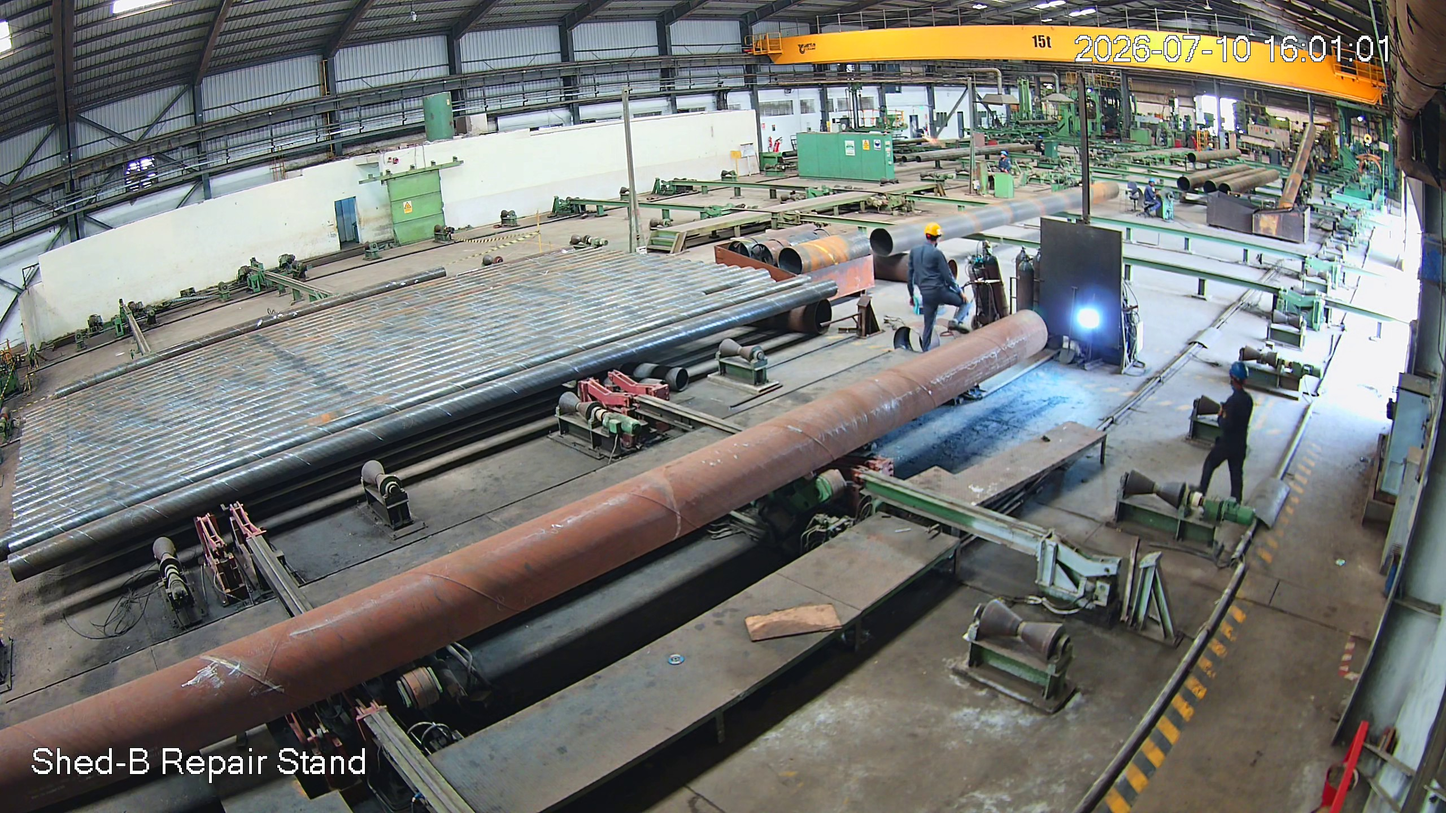Helmet: (1228, 357, 1262, 404), (918, 221, 949, 262)
Person: (1190, 360, 1265, 491), (903, 224, 979, 348)
